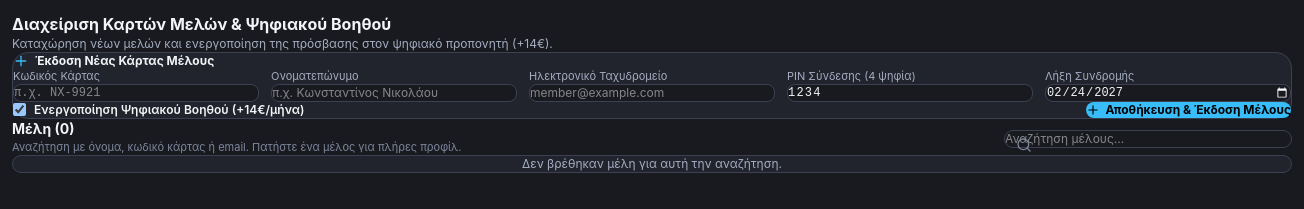
Test: MembersTab (admin member CRUD) › reports a network failure as a failed save, not a success
In the field with placeholder "π.χ. NX-9921": (136, 93) [13, 84, 259, 102], type "NX-1"
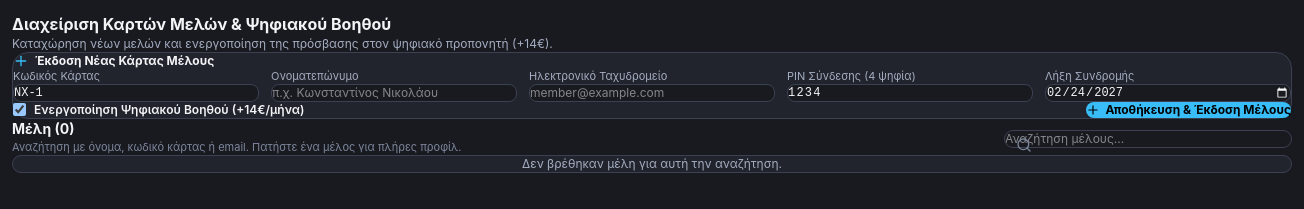
In the field with placeholder "π.χ. Κωνσταντίνος Νικολάου": (394, 93) [271, 84, 517, 102], type "Δοκιμή"
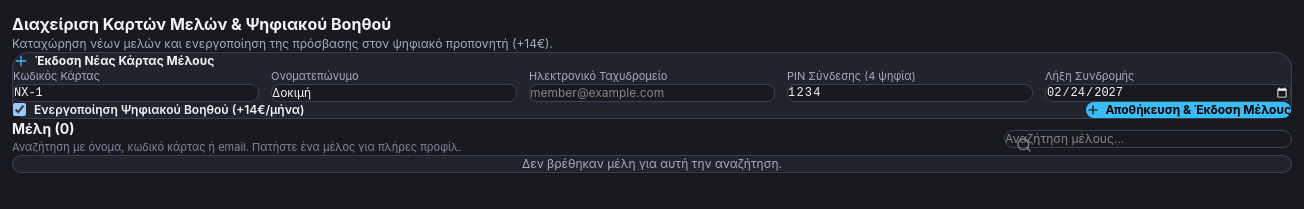
In the field with placeholder "member@example.com": (652, 93) [529, 84, 775, 102], type "t@example.com"
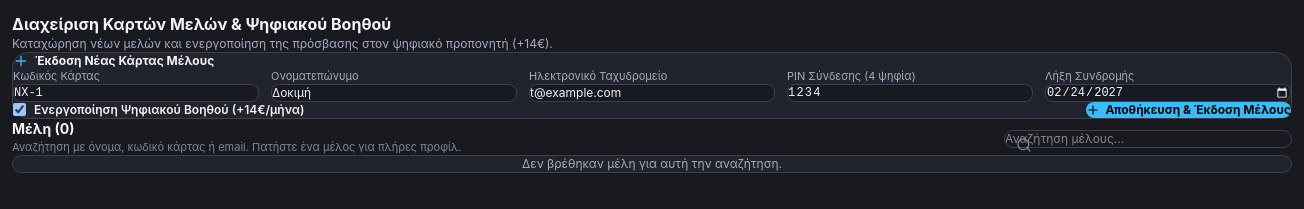
Click the button "Αποθήκευση & Έκδοση Μέλους": (1188, 110) [1086, 102, 1291, 118]
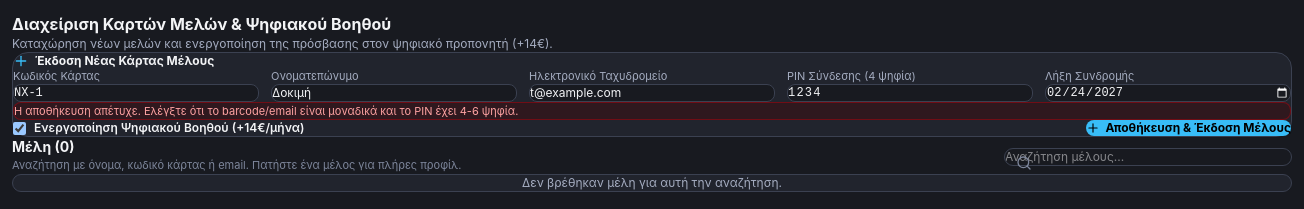
Check: the text "Η αποθήκευση απέτυχε" is shown, box [14, 104, 518, 118]
